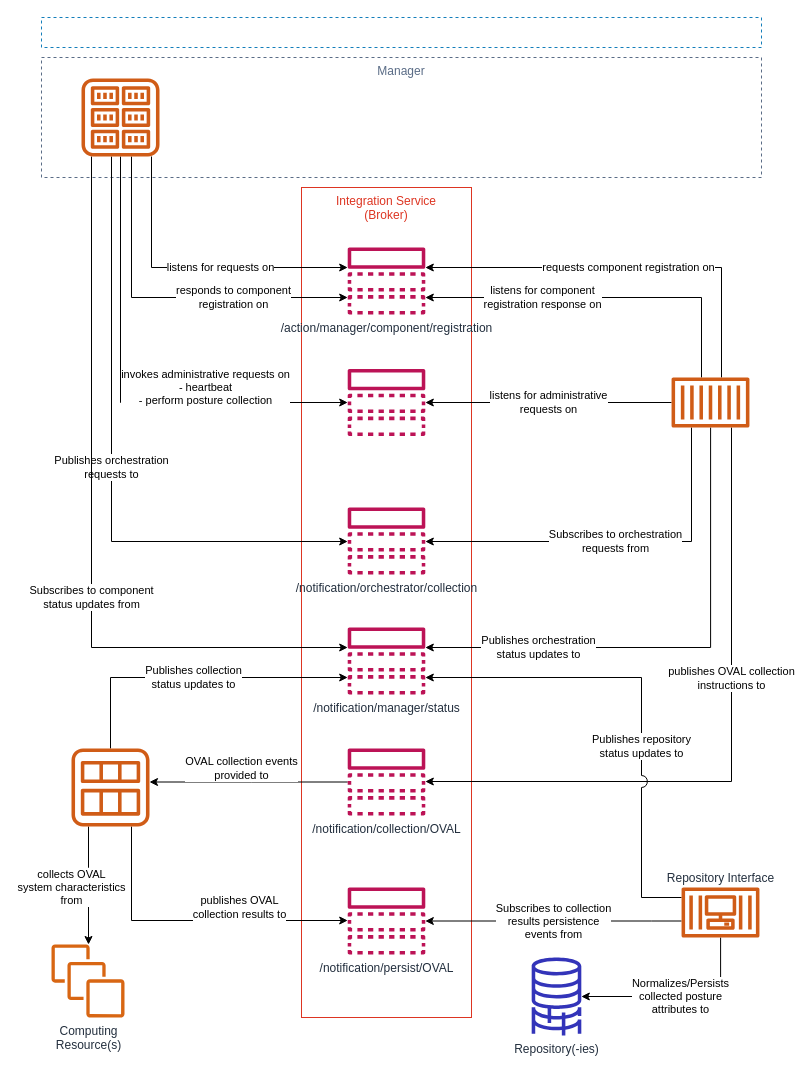
Some shapes in this 812 by 1074 pixel diagram are drawn without their labels. Each missing label, with the centre of its shape:
"/action/manager/UUID" goes at point (386, 402).
"Collector" goes at point (110, 787).
"Manager Core" goes at point (120, 117).
"Orchestrator" goes at point (710, 402).
"User Interface" goes at point (401, 32).
